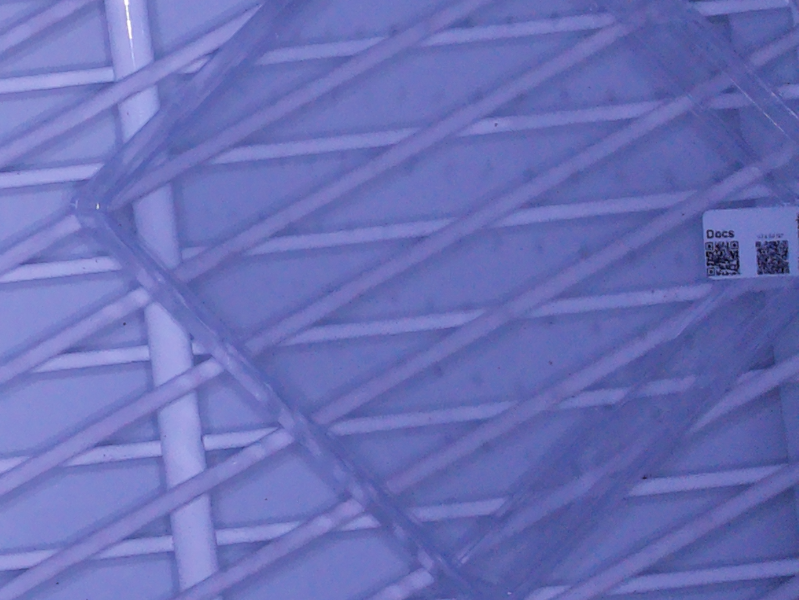plate: (71, 1, 799, 600)
